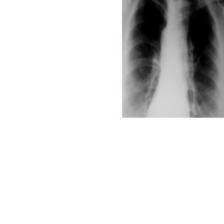tuberculosis: (122, 0, 224, 117)
